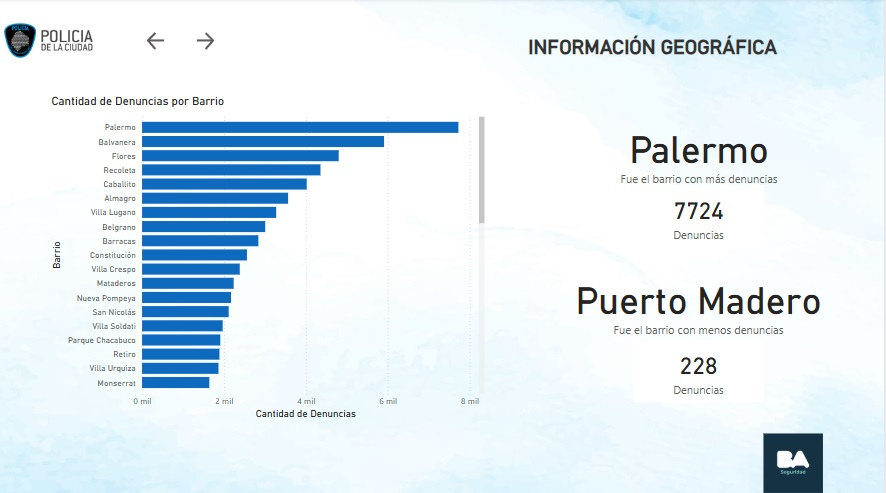

This screenshot's page, from the dashboard's own definition file:
{"tool":"powerbi","page":{"name":"Página 3","canvas":[1280,720],"ordinal":4},"visuals":[{"type":"image","box":[0,0,142.9,122.9],"z":0},{"type":"image","box":[1100,624.3,95.7,95.7],"z":1000},{"type":"textbox","box":[674.3,48.6,542.9,58.6],"z":2000},{"type":"barChart","fields":{"Category":["Barrio.barrio"],"Y":["TablaMedidas.Cantidad_Delitos"]},"box":[71.4,138.6,635.7,475.7],"z":3000},{"type":"actionButton","box":[206.7,41.9,70.8,40.5],"z":4000},{"type":"actionButton","box":[277.6,41.9,66.5,40.5],"z":5000},{"type":"card","fields":{"Values":["TablaMedidas.BarrioMasDenuncias"]},"box":[879,159,266,127.2],"z":6000},{"type":"card","fields":{"Values":["TablaMedidas.BarrioMenosDenuncias"]},"box":[806.7,374.5,409.2,134.5],"z":7000},{"type":"card","fields":{"Values":["TablaMedidas.MaxDenunciasBarrio"]},"box":[916.6,270.4,189.4,89.6],"z":8000},{"type":"card","fields":{"Values":["TablaMedidas.MinDenunciasBarrio"]},"box":[916.6,494.5,189.4,89.6],"z":9000}]}

Visuals, with their boxes in screenshot pixels (x1, y1, x2, y2), scaled from the page's 1280x720 canvas onto the 886x493 screenshot:
image: 0 0 99 84
image: 761 427 828 492
textbox: 467 33 843 73
barChart - Barrio.barrio x TablaMedidas.Cantidad_Delitos: 49 95 489 421
actionButton: 143 29 192 56
actionButton: 192 29 238 56
card - TablaMedidas.BarrioMasDenuncias: 608 109 793 196
card - TablaMedidas.BarrioMenosDenuncias: 558 256 842 349
card - TablaMedidas.MaxDenunciasBarrio: 634 185 766 246
card - TablaMedidas.MinDenunciasBarrio: 634 339 766 400
